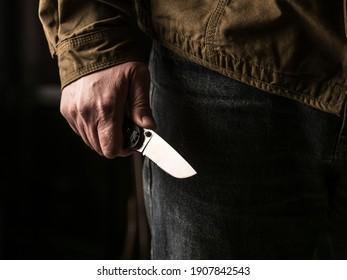Knife: (38, 0, 347, 261), (53, 60, 158, 163), (120, 114, 198, 181)
